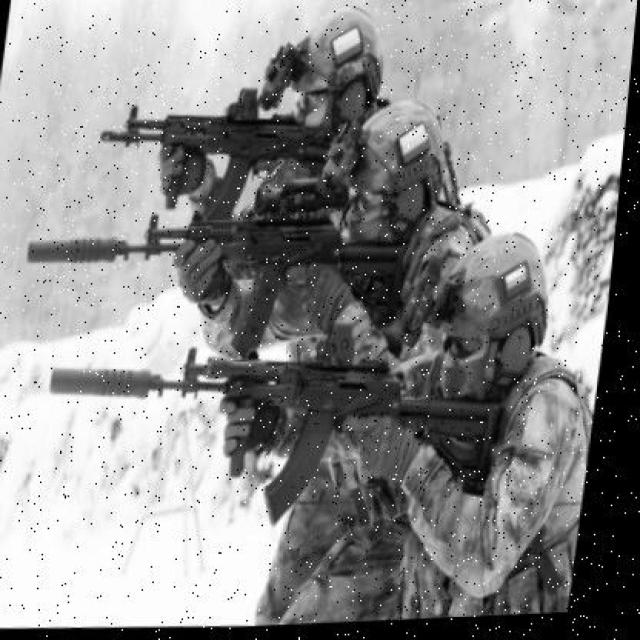weapon: (48, 329, 504, 526), (27, 209, 413, 356), (101, 86, 322, 209)
